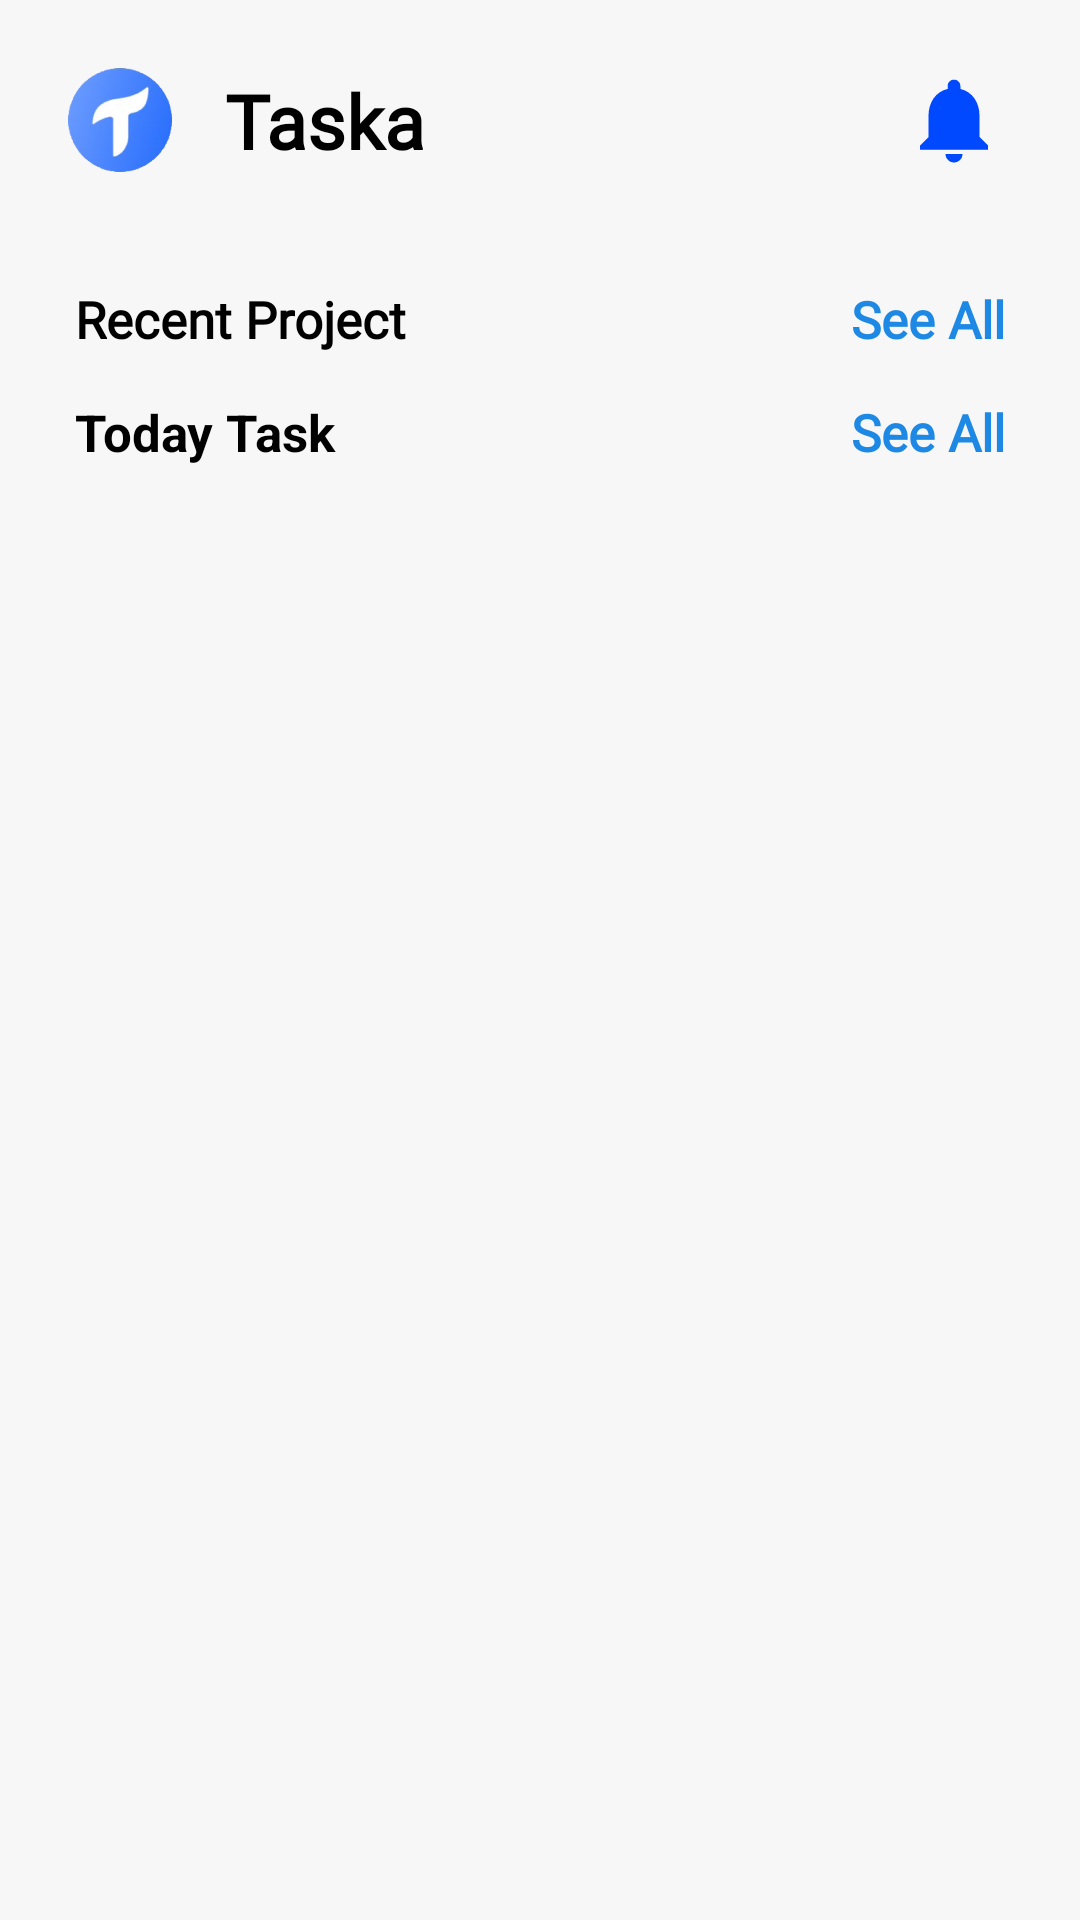

Icon bounding boxes for this 1080 x 1920 phone screenshot, format Rect(x1, y1, x2, y2):
notification: Rect(920, 79, 988, 163)
